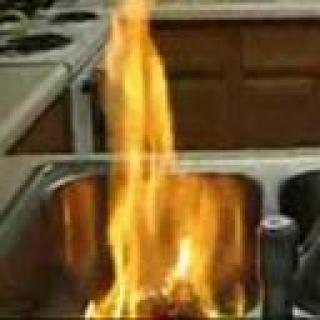fire: (96, 0, 189, 320), (96, 164, 248, 318)
